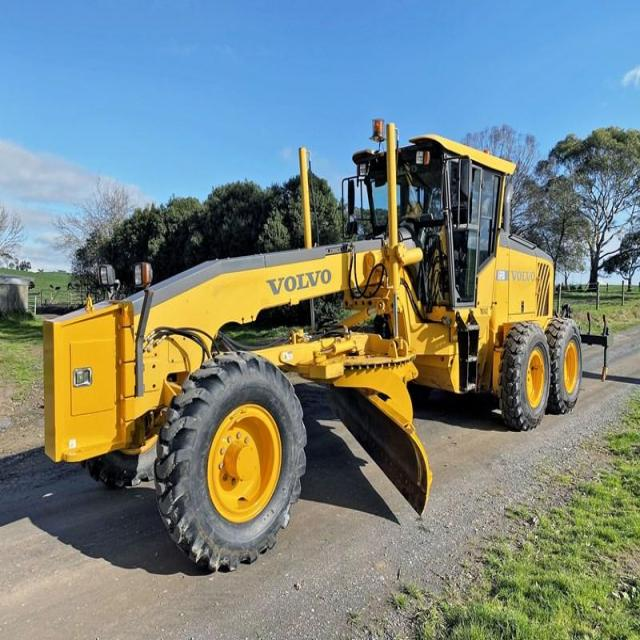Grader: (31, 108, 629, 567)
